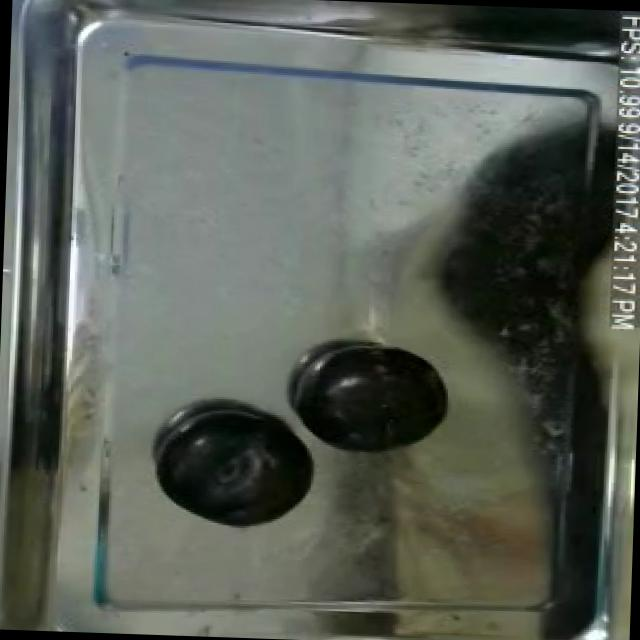Fruit: (364, 456, 580, 619), (154, 398, 324, 534), (288, 341, 456, 461)
